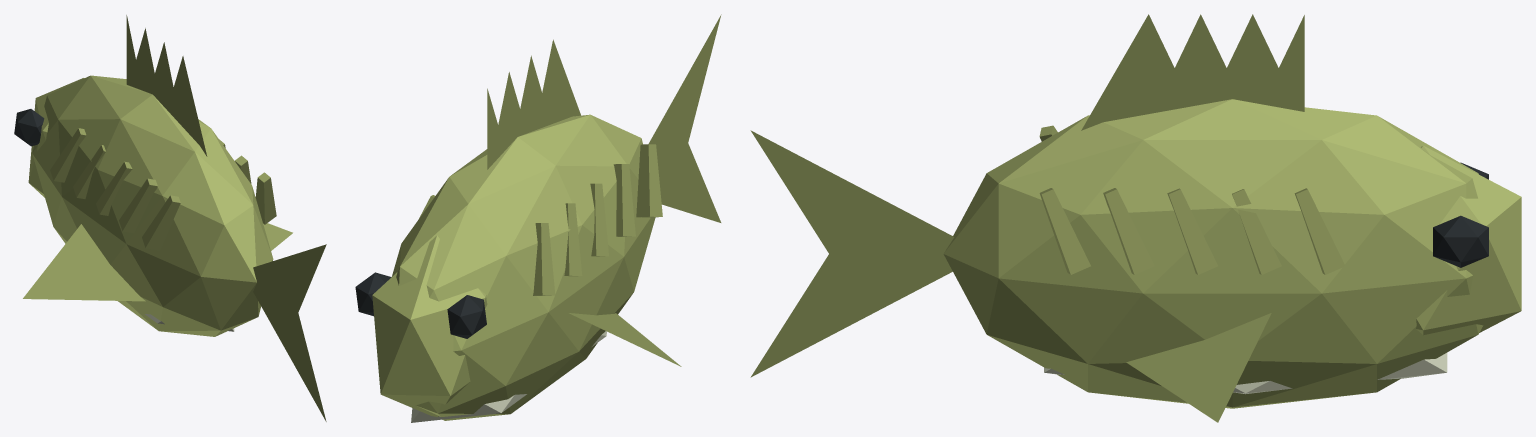
File: Perch.fbx
The picture shows the model from 3 angles, left to right: view 1: azimuth 30°, elevation 25°; view 2: azimuth 150°, elevation 25°; view 3: azimuth 270°, elevation 25°; orthographic projection. The views are drawn at different scales.
Visible parts, largest first — view 1: Body, TailFin, Pectoral1, DorsalFin, Stripe1_4, Stripe1_3, Eye1, Head, Stripe1_0, Stripe-1_4, Stripe1_2, Stripe1_1 (+1 smaller); view 2: Body, Head, TailFin, DorsalFin, Stripe1_4, Eye1, Pectoral1, Stripe1_3, Stripe1_0, Stripe1_2, Stripe1_1, Belly (+1 smaller); view 3: Body, TailFin, DorsalFin, Head, Pectoral-1, Eye-1, Stripe-1_4, Stripe-1_3, Stripe-1_0, Stripe-1_2, Stripe-1_1, Belly.
Boxes of the visible parts, box(x1,y1,x2,y2) form: Body: box(32, 75, 273, 336); TailFin: box(253, 244, 326, 421); Pectoral1: box(23, 224, 145, 301); DorsalFin: box(126, 15, 207, 156); Stripe1_4: box(142, 195, 180, 250); Stripe1_3: box(119, 178, 157, 233); Eye1: box(14, 109, 44, 146); Head: box(28, 78, 84, 197); Stripe1_0: box(50, 128, 86, 182); Stripe-1_4: box(255, 172, 276, 224); Stripe1_2: box(96, 161, 132, 215); Stripe1_1: box(73, 145, 105, 198); Body: box(392, 114, 655, 420); Head: box(372, 235, 487, 417); TailFin: box(648, 14, 721, 222); DorsalFin: box(487, 39, 580, 169); Stripe1_4: box(636, 144, 662, 217); Eye1: box(447, 295, 486, 338); Pectoral1: box(569, 313, 681, 366); Stripe1_3: box(613, 164, 635, 236); Stripe1_0: box(533, 223, 555, 295); Stripe1_2: box(590, 183, 608, 256); Stripe1_1: box(564, 203, 582, 276); Belly: box(411, 331, 606, 422); Body: box(943, 99, 1483, 408); TailFin: box(750, 130, 954, 377); DorsalFin: box(1081, 14, 1304, 130); Head: box(1416, 145, 1521, 335); Pectoral-1: box(1126, 313, 1271, 422); Eye-1: box(1433, 215, 1488, 267); Stripe-1_4: box(1039, 188, 1090, 274); Stripe-1_3: box(1103, 188, 1154, 274); Stripe-1_0: box(1294, 188, 1345, 274); Stripe-1_2: box(1167, 188, 1217, 274); Stripe-1_1: box(1232, 189, 1281, 274); Belly: box(1044, 353, 1447, 394).
Size of the model in its own units: 0.33 by 0.3315 by 0.5871.
